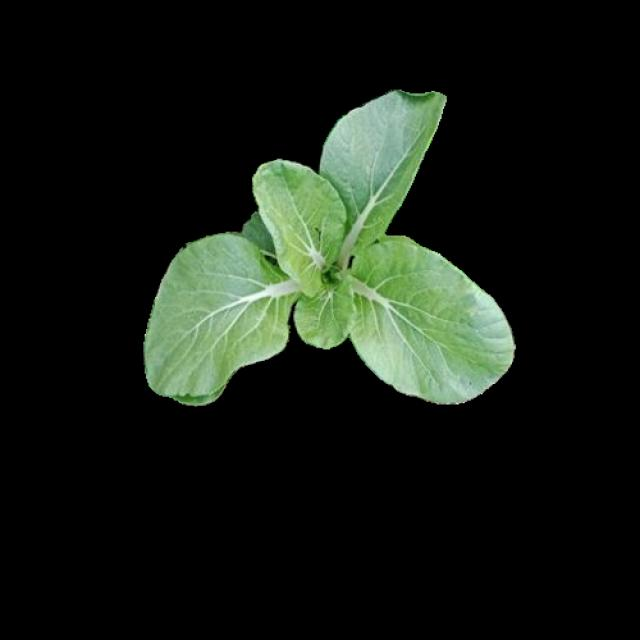healthy: (150, 101, 510, 402)
not-mature: (142, 88, 513, 404)
